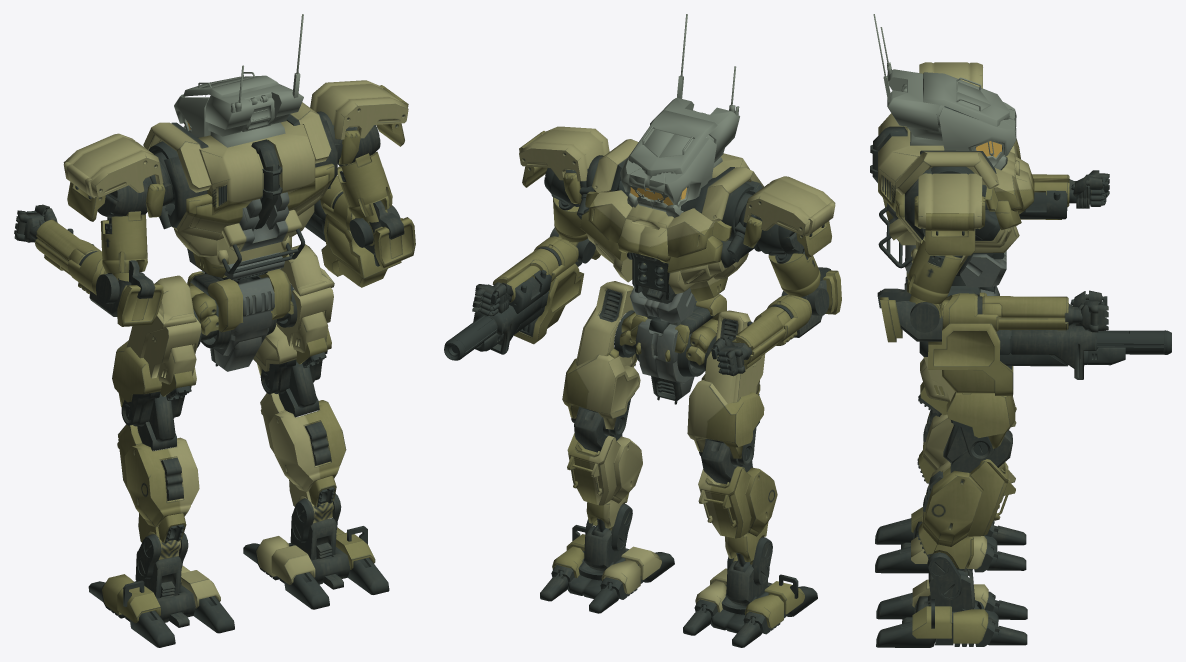
The model's file is Panther.glb.
3 views of the same model, side by side, from view 1: azimuth 30°, elevation 25°; view 2: azimuth 150°, elevation 25°; view 3: azimuth 270°, elevation 25° (orthographic). The views are drawn at different scales.
Visible parts, largest first — view 1: CenterTorso_CoreAndPelvis, LeftArm_ShoulderAndUpperarm, LeftTorso_TorsoShell, LeftLeg_Shin, RightLeg_Shin, LeftLeg_Thigh, RightArm_ShoulderAndUpperarm, RightLeg_Foot, LeftLeg_Foot, Head_CockpitFrame, LeftArm_ForearmAndFist, RightLeg_Thigh (+2 smaller); view 2: CenterTorso_CoreAndPelvis, Head_CockpitFrame, LeftArm_ShoulderAndUpperarm, RightArm_ForearmAndFist, RightLeg_Thigh, LeftLeg_Shin, RightLeg_Shin, LeftLeg_Thigh, RightLeg_Foot, LeftLeg_Foot, RightArm_ShoulderAndUpperarm, LeftArm_ForearmAndFist (+4 smaller); view 3: RightArm_ForearmAndFist, RightLeg_Shin, Head_CockpitFrame, RightLeg_Foot, RightArm_ShoulderAndUpperarm, CenterTorso_CoreAndPelvis, RightTorso_TorsoShell, RightLeg_Thigh, LeftLeg_Foot, LeftArm_ForearmAndFist, RightArm_PpcEmitter, LeftLeg_Shin (+1 smaller).
Boxes of the visible parts, x1,y1,x2,y2 form: CenterTorso_CoreAndPelvis: (187,137,304,371); LeftArm_ShoulderAndUpperarm: (63,133,173,281); LeftTorso_TorsoShell: (143,122,263,257); LeftLeg_Shin: (117,393,199,597); RightLeg_Shin: (260,361,346,559); LeftLeg_Thigh: (112,275,201,426); RightArm_ShoulderAndUpperarm: (310,80,408,223); RightLeg_Foot: (243,518,389,609); LeftLeg_Foot: (88,551,234,647); Head_CockpitFrame: (174,14,303,147); LeftArm_ForearmAndFist: (14,204,163,326); RightLeg_Thigh: (253,244,334,394); CenterTorso_CoreAndPelvis: (580,177,727,404); Head_CockpitFrame: (620,14,739,217); LeftArm_ShoulderAndUpperarm: (727,176,835,297); RightArm_ForearmAndFist: (472,227,600,354); RightLeg_Thigh: (562,281,640,436); LeftLeg_Shin: (698,440,777,585); RightLeg_Shin: (567,408,642,551); LeftLeg_Thigh: (687,310,765,466); RightLeg_Foot: (540,525,674,613); LeftLeg_Foot: (683,561,817,647); RightArm_ShoulderAndUpperarm: (519,126,609,242); LeftArm_ForearmAndFist: (711,267,841,376); RightArm_ForearmAndFist: (877,282,1108,396); RightLeg_Shin: (917,425,1015,606); Head_CockpitFrame: (873,14,1016,170); RightLeg_Foot: (876,568,1027,647); RightArm_ShoulderAndUpperarm: (907,173,997,303); CenterTorso_CoreAndPelvis: (870,126,1034,296); RightTorso_TorsoShell: (878,130,1011,248); RightLeg_Thigh: (918,303,1015,460); LeftLeg_Foot: (875,507,1026,573); LeftArm_ForearmAndFist: (883,170,1109,221); RightArm_PpcEmitter: (1000,330,1171,366); LeftLeg_Shin: (917,407,1016,483).
Size of the model in its own units: 1.29 by 2.31 by 1.07.
4 materials, 2 textured.
